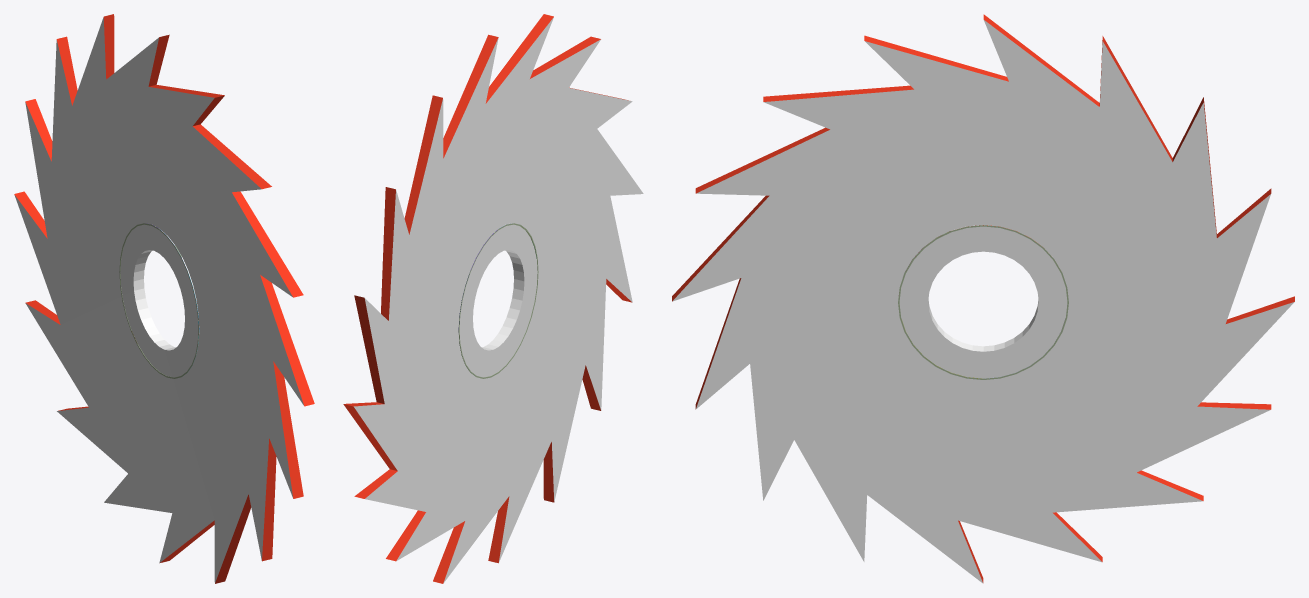
Rendered from Sierra MarcoCanton.fbx.
The picture shows the model from 3 angles, left to right: view 1: azimuth 30°, elevation 25°; view 2: azimuth 150°, elevation 25°; view 3: azimuth 270°, elevation 25°; orthographic projection. The views are drawn at different scales.
Parts seen in each view (by area): view 1: Sierra; view 2: Sierra; view 3: Sierra.
Boxes of the visible parts, left/top/right/bottom form: Sierra: left=14, top=14, right=314, bottom=583; Sierra: left=343, top=14, right=643, bottom=583; Sierra: left=672, top=14, right=1294, bottom=583.
Size of the model in its own units: 6.31 by 304 by 304.
Materials: 1 (1 with a texture image).
